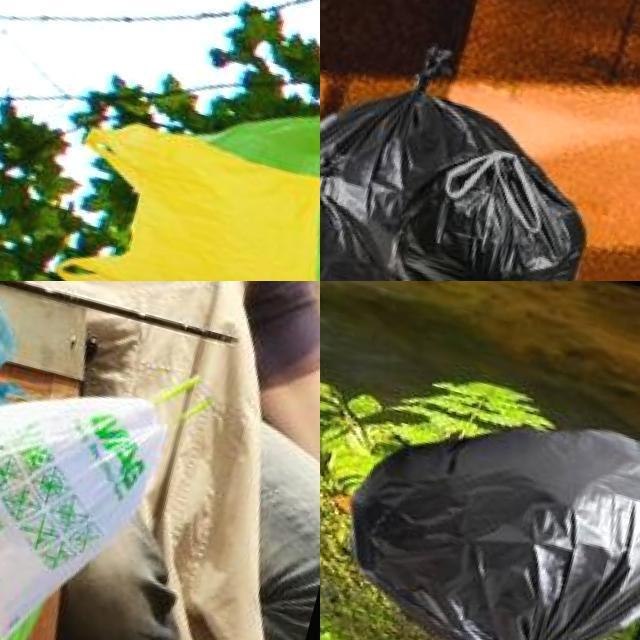waste: (320, 372, 640, 640), (320, 20, 640, 281), (0, 341, 172, 640), (42, 106, 320, 281), (174, 48, 320, 281)
